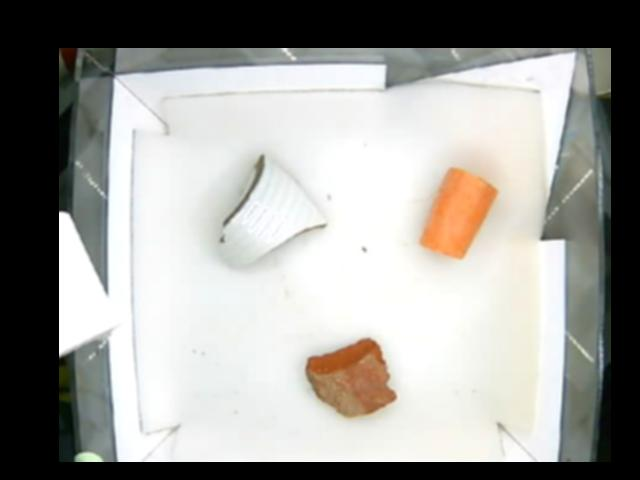Brisk: (303, 336, 398, 421)
Carrot: (419, 165, 499, 261)
China: (216, 154, 328, 269)
